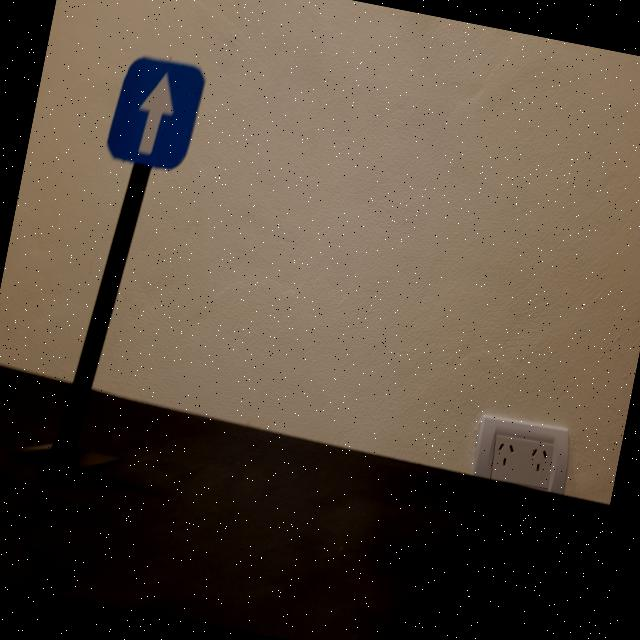one_way: (103, 51, 208, 176)
